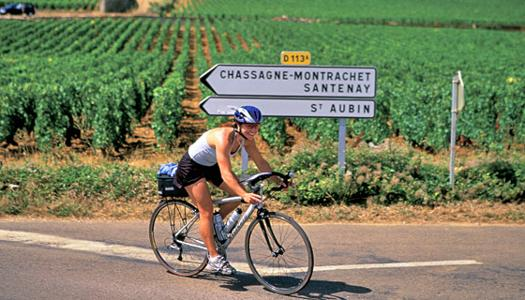person: (172, 105, 292, 278)
